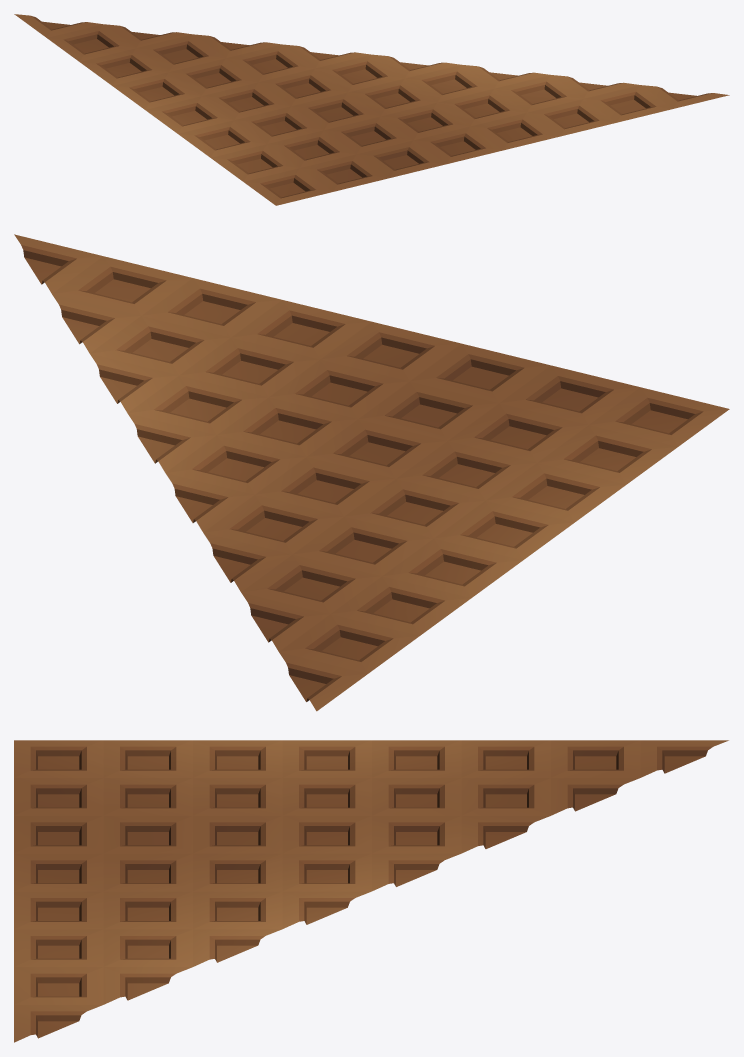
Rendered from GroundBrownTriangle.glb.
3 views of the same model, one above another, from view 1: azimuth 30°, elevation 25°; view 2: azimuth 150°, elevation 25°; view 3: azimuth 270°, elevation 25° (orthographic). The views are drawn at different scales.
Visible parts, largest first — view 1: GroundBrownTriangle; view 2: GroundBrownTriangle; view 3: GroundBrownTriangle.
Part boxes in pixels (x1=…): GroundBrownTriangle: x1=14, y1=14, x2=729, y2=205; GroundBrownTriangle: x1=14, y1=234, x2=729, y2=711; GroundBrownTriangle: x1=14, y1=740, x2=728, y2=1042.
Bounding box in the file's own units: 16 × 0.16 × 16.
1 material, 1 textured.
